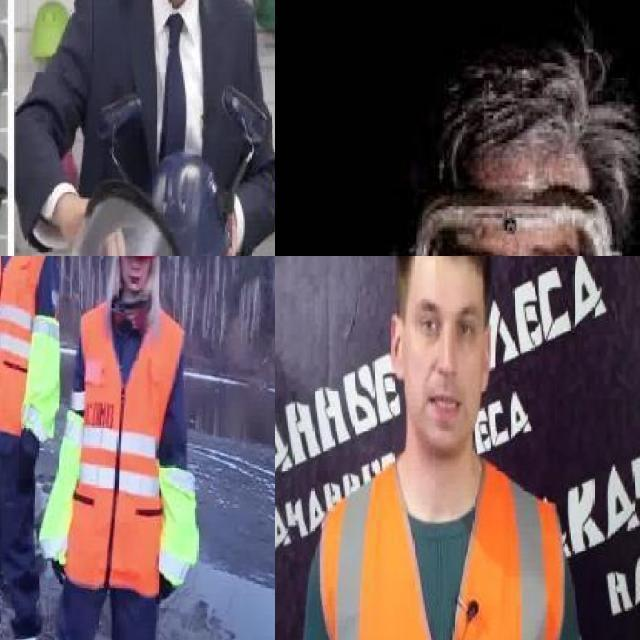apron: (14, 427, 36, 505)
